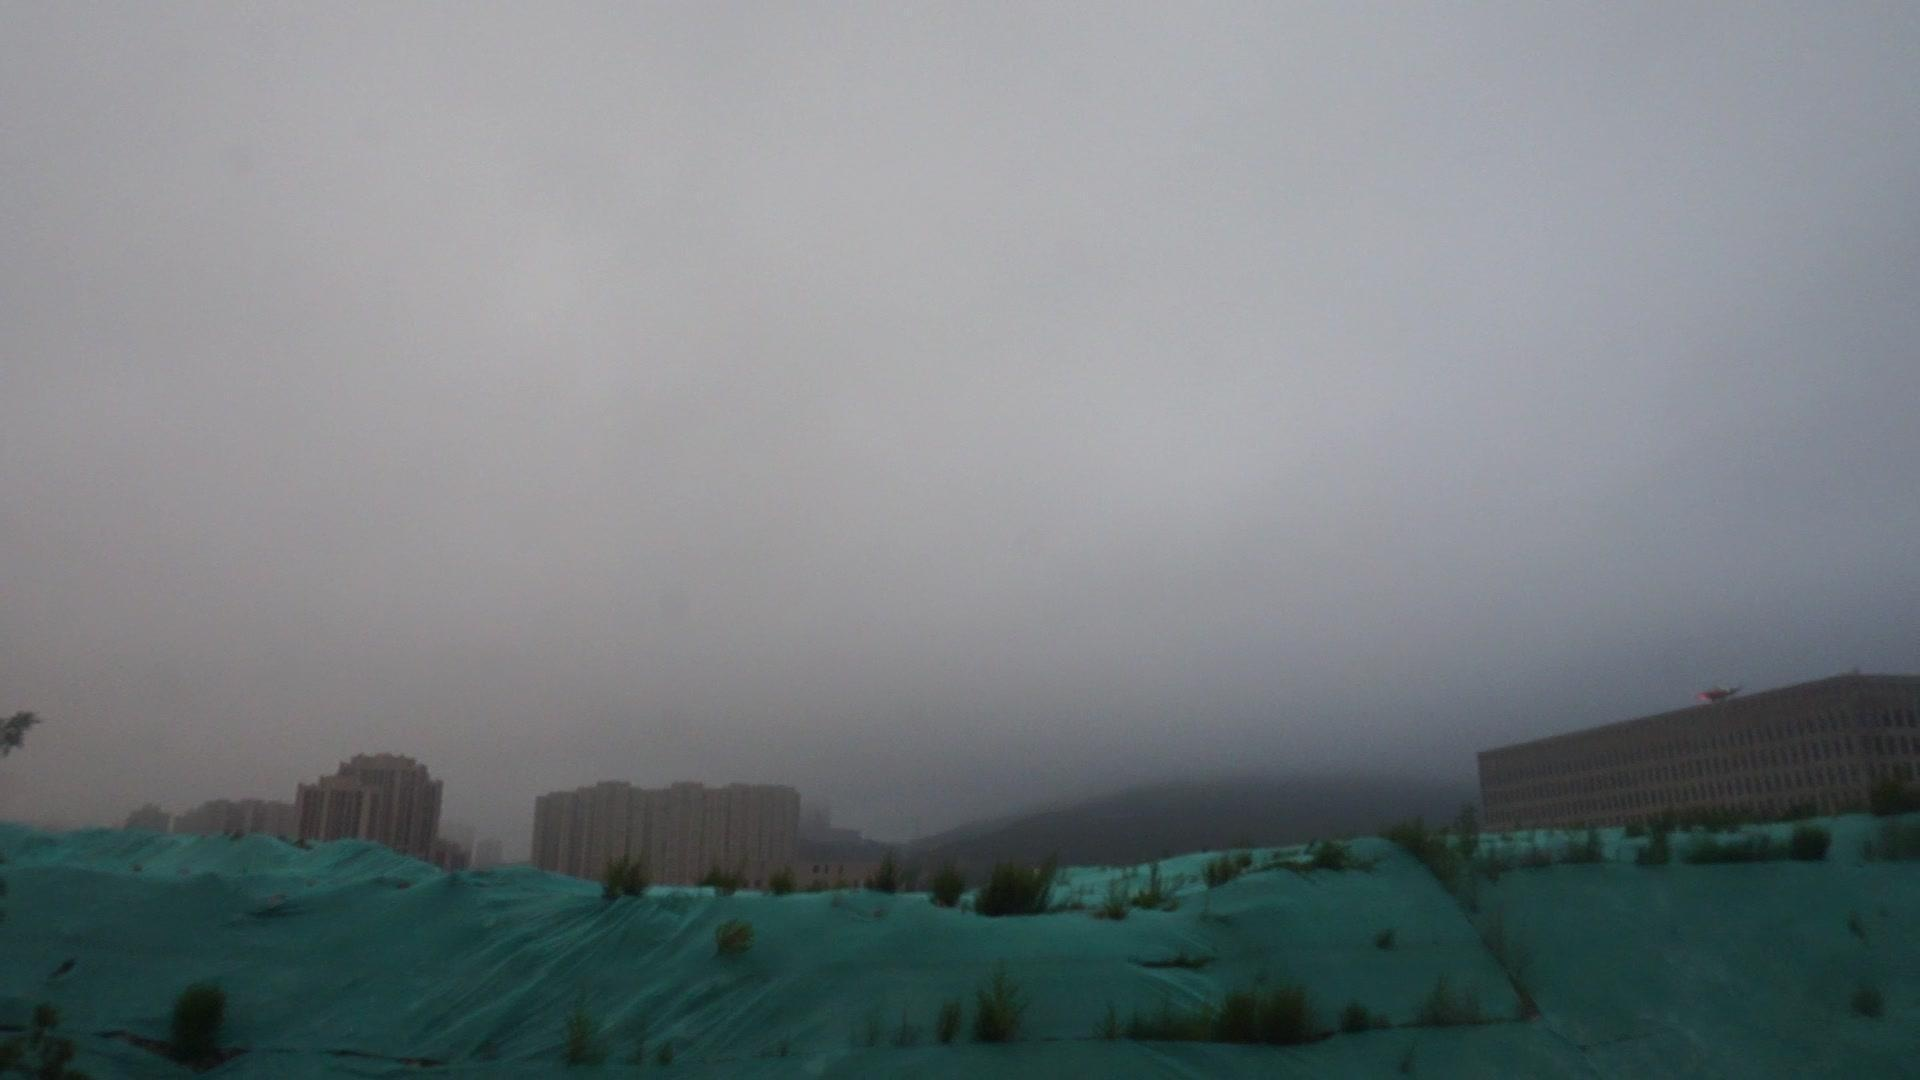UAV: (1698, 688, 1742, 705)
